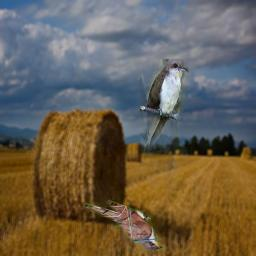Cuckoo: (140, 59, 189, 189), (83, 197, 165, 254)
